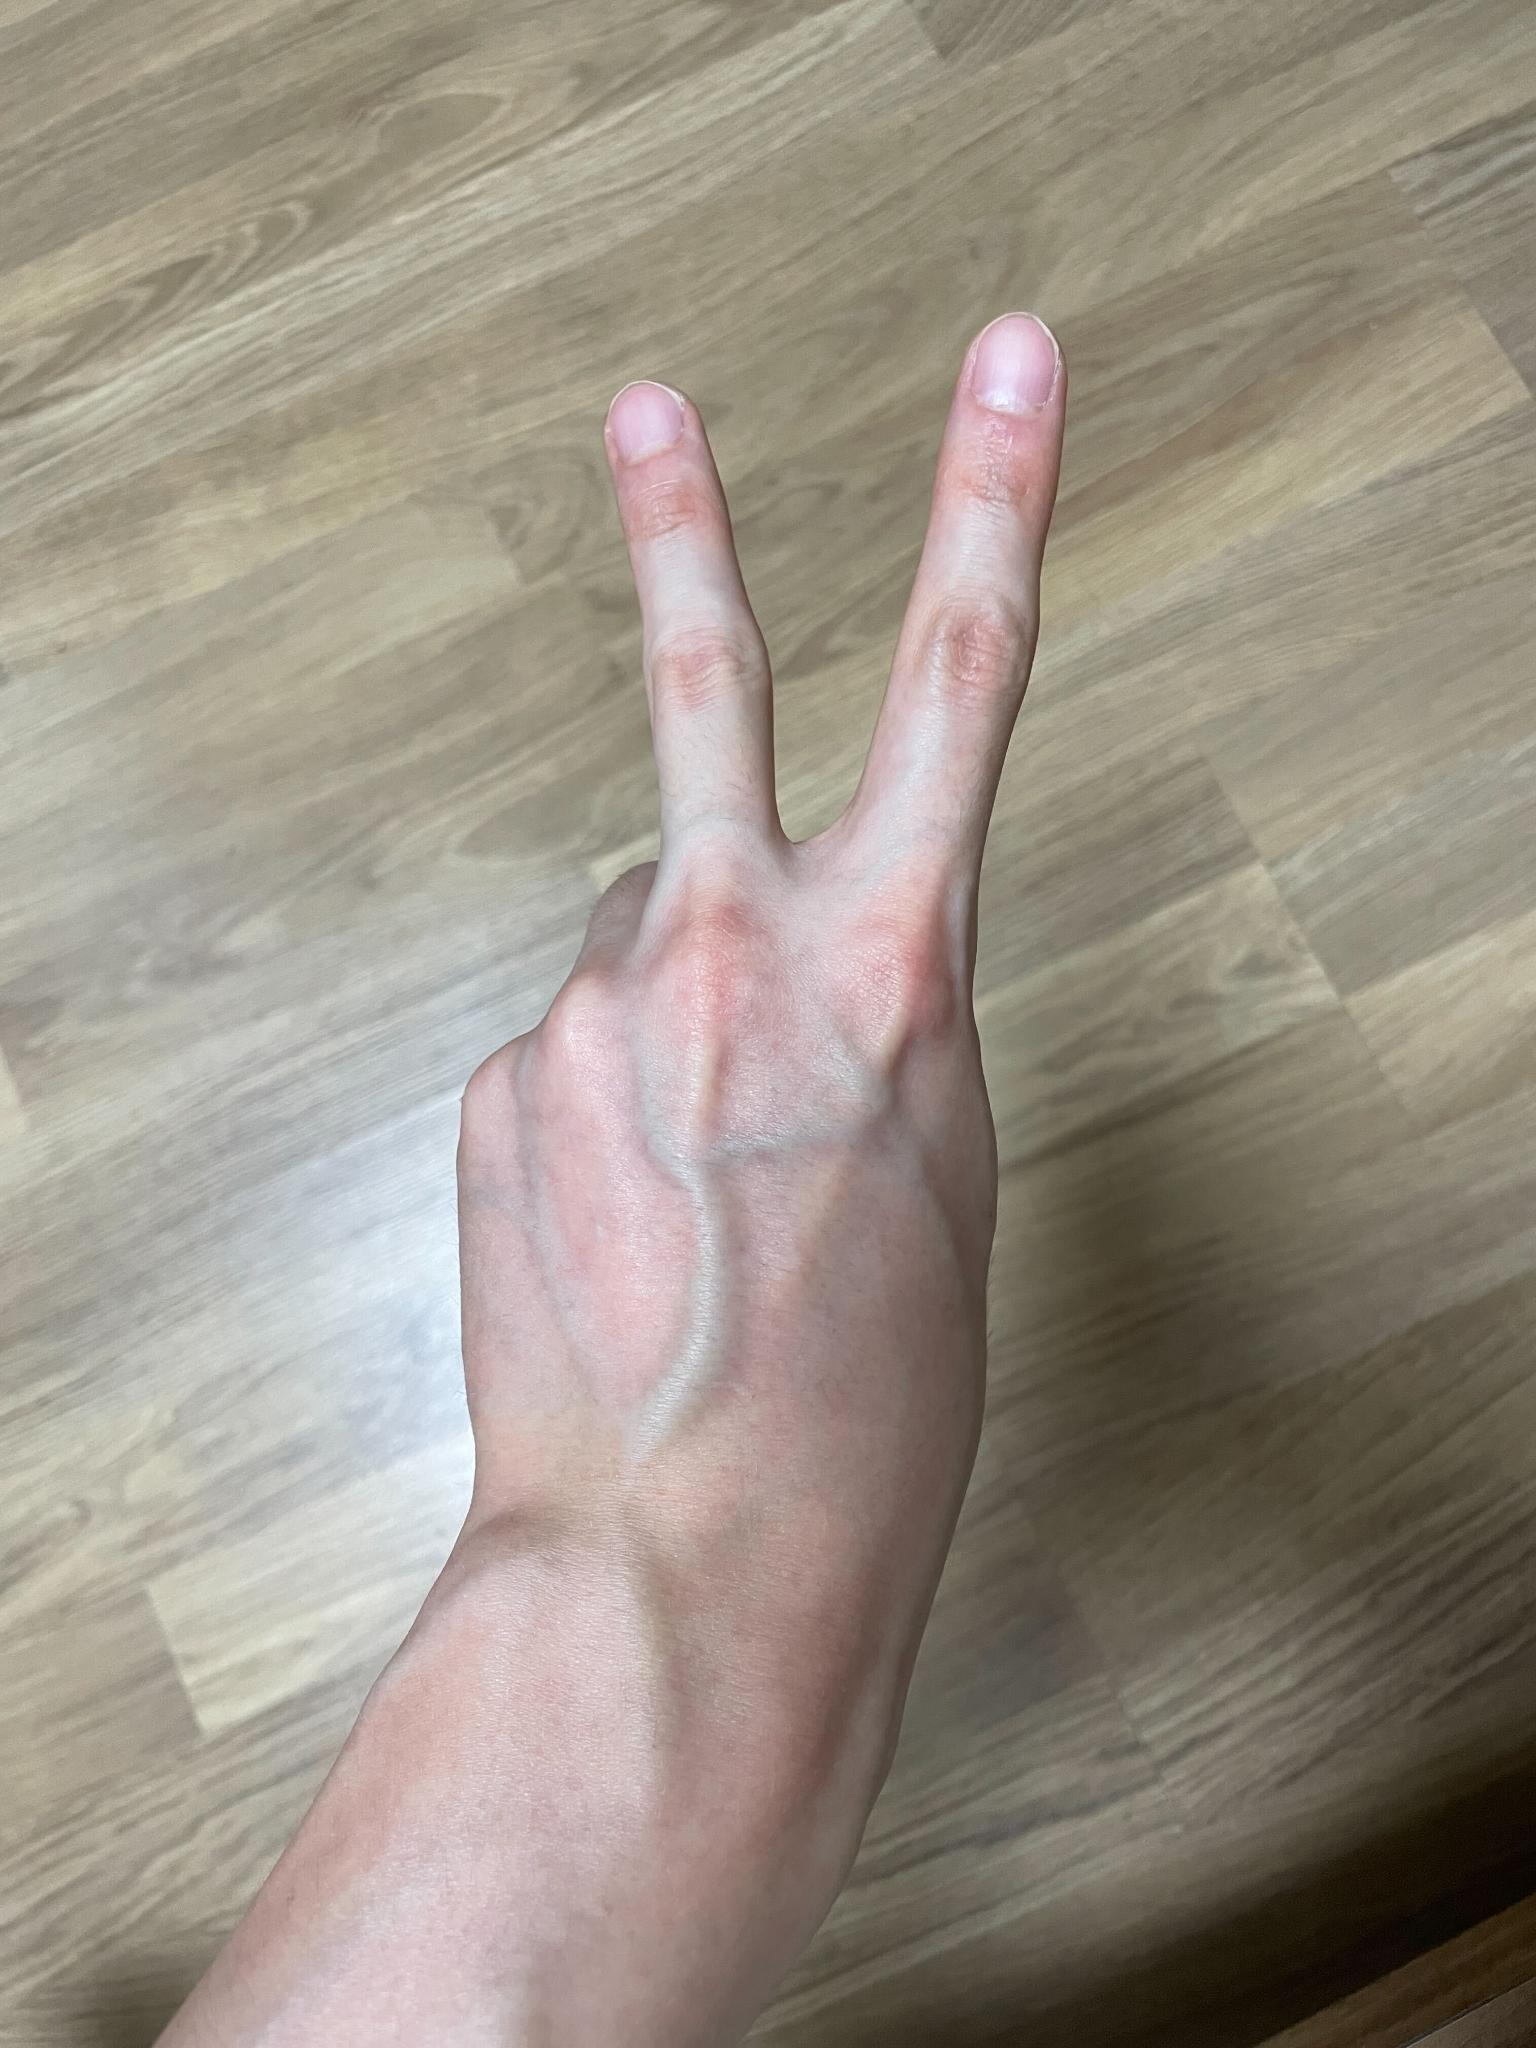v: (419, 300, 1084, 1856)
